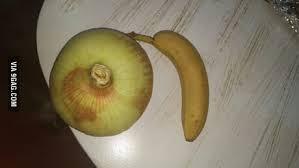banana: (155, 29, 210, 144)
onion: (48, 27, 153, 139)
